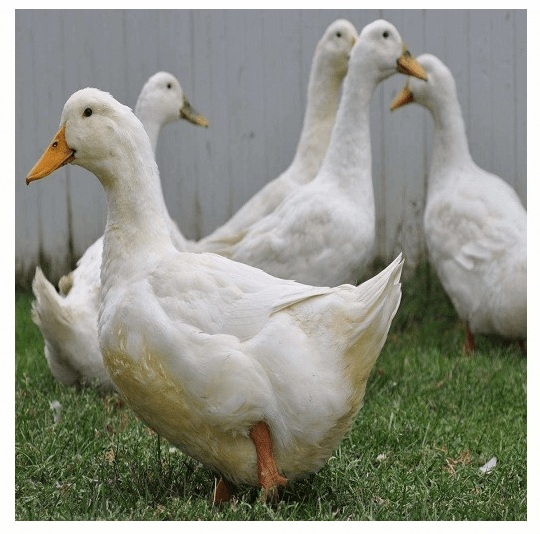Mencari Makan di Lumpur: (24, 124, 82, 187), (396, 46, 435, 86), (385, 89, 415, 111)
